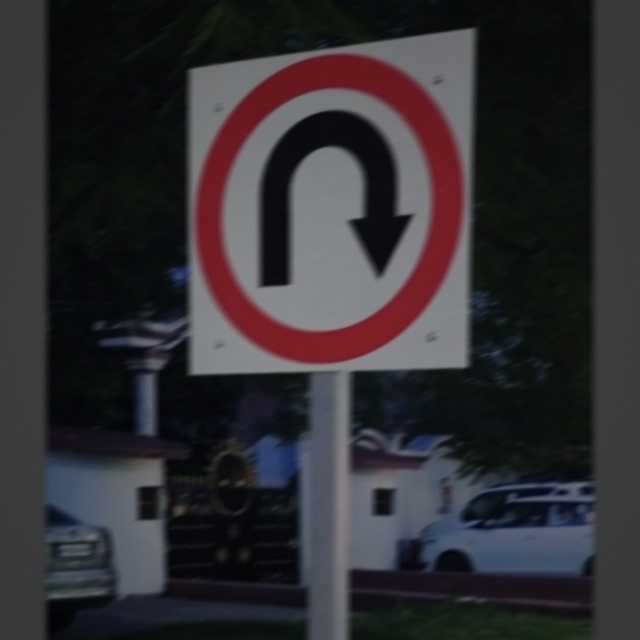U_Turn_Ahead: (184, 60, 468, 360)
